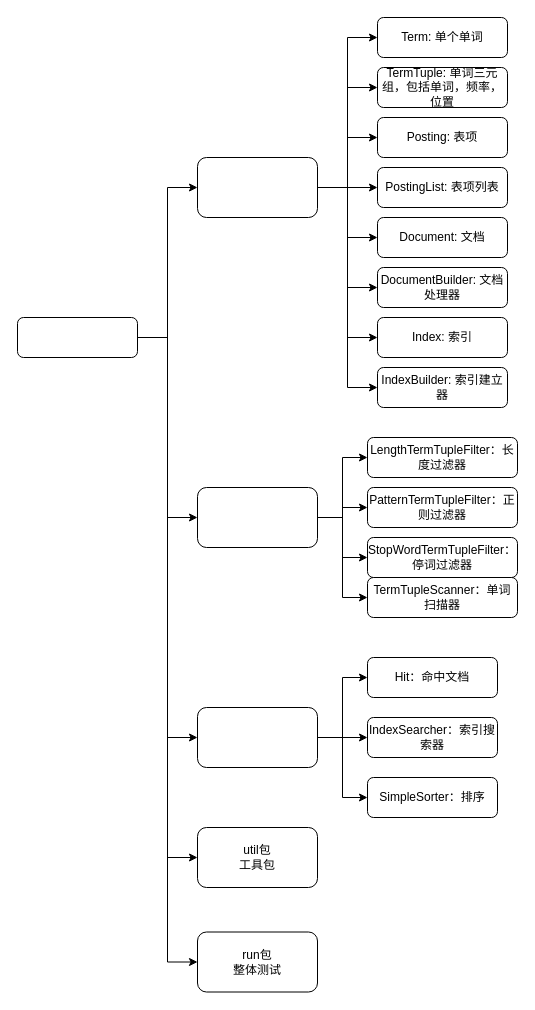
The diagram is 535 pixels wide and 1010 high, and some of its shapes have lost their labels. Each missing label, with the centre of its shape:
"index包 主要负责文档的处理" goes at (257,187).
"parse包 主要负责索引生成" goes at (257,517).
"query包 主要负责索引的搜索" goes at (257,737).
"SearchEngine" goes at (77,337).
